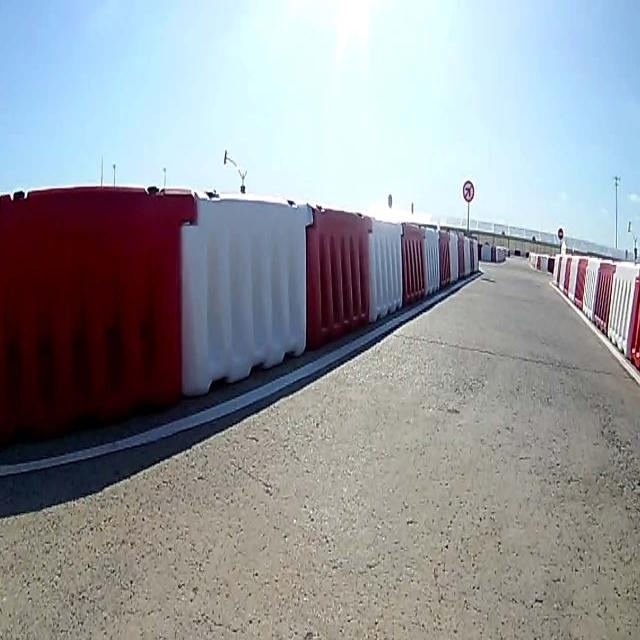soladonulmez: (462, 180, 476, 203)
